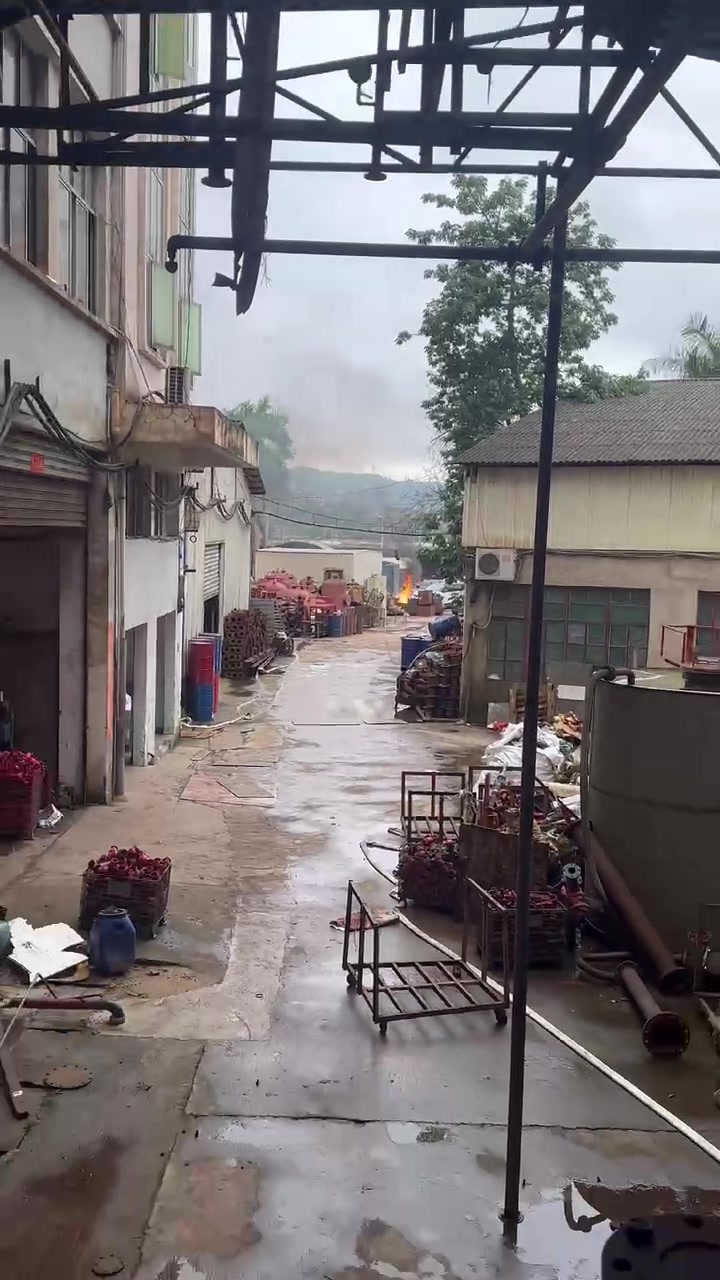fire: (398, 576, 410, 603)
